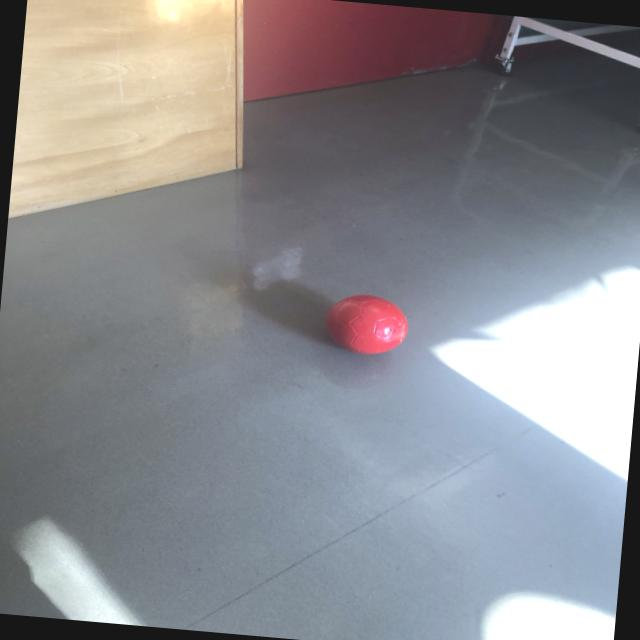red_ball: (322, 290, 406, 354)
